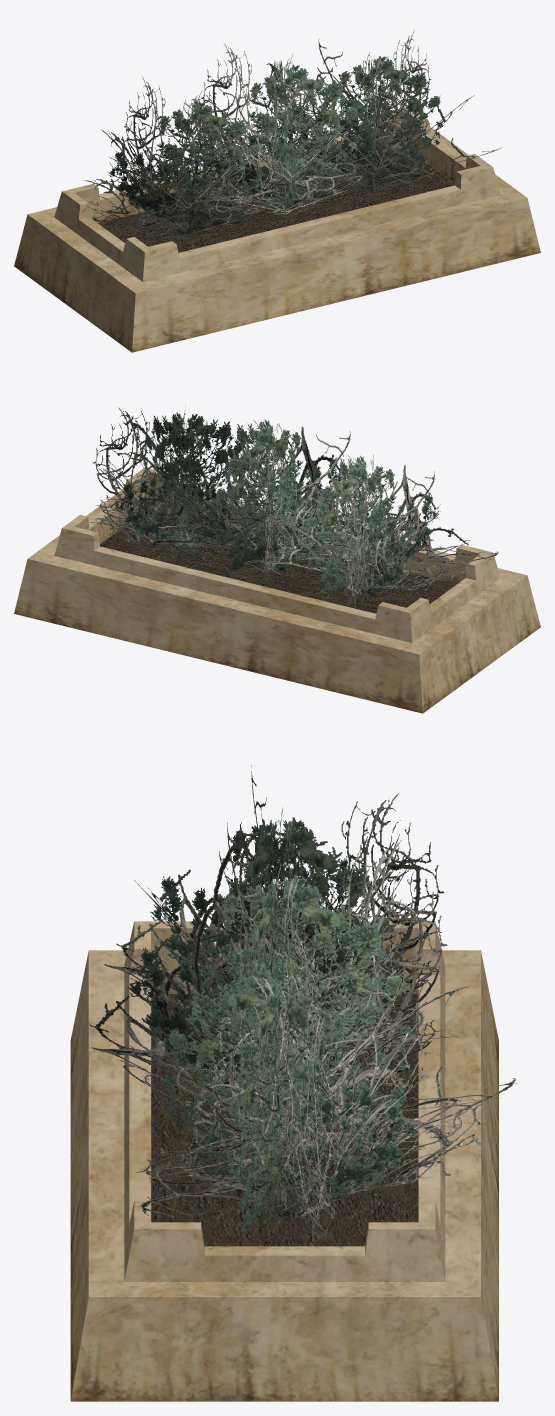
Rendered from thm_tato_orchard_s02_l0.fbx.
The picture shows the model from 3 angles, top to bottom: view 1: azimuth 30°, elevation 25°; view 2: azimuth 150°, elevation 25°; view 3: azimuth 270°, elevation 25°; orthographic projection. The views are drawn at different scales.
Parts seen in each view (by area): view 1: mesh_node; view 2: mesh_node; view 3: mesh_node.
Part boxes in pixels (<box>): mesh_node: <box>14,30,540,352</box>; mesh_node: <box>14,404,540,713</box>; mesh_node: <box>70,765,516,1401</box>.
Size of the model in its own units: 8.13 by 3.8 by 4.92.
1 material, 1 textured.
